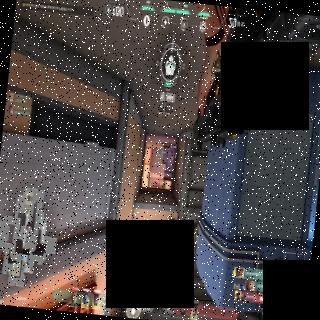ENEMY-BODY: (168, 144, 175, 164), (7, 104, 13, 115)
ENEMY-HEAD: (24, 224, 28, 230), (169, 160, 172, 164)
